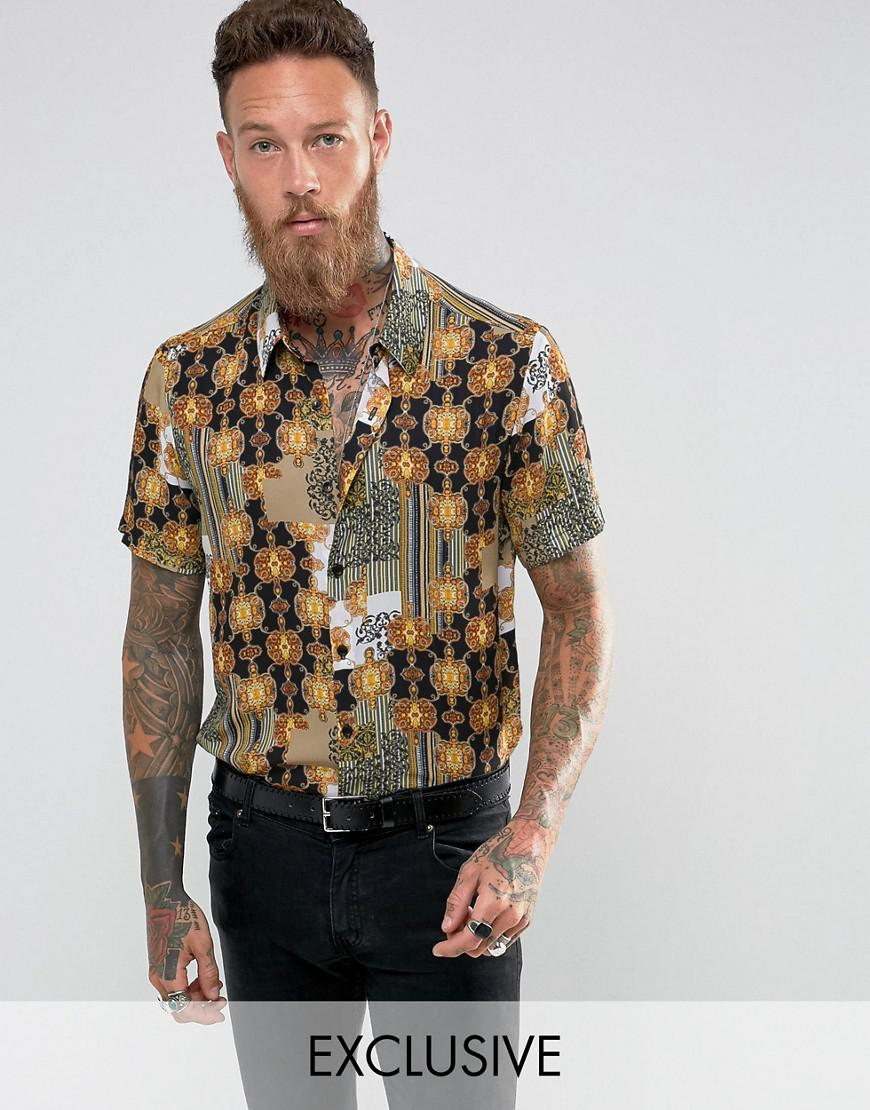teeshirt: (107, 240, 644, 824)
